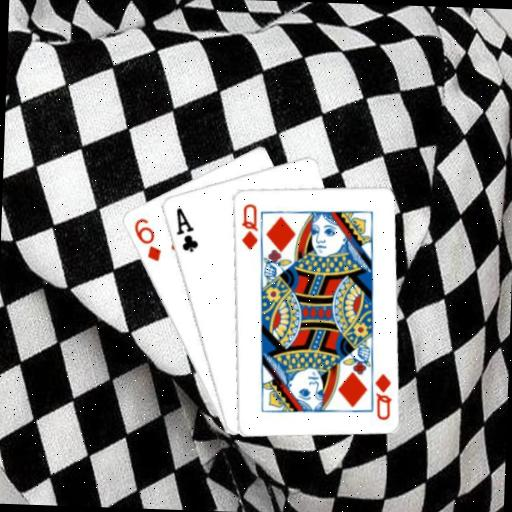6D: (129, 214, 163, 263)
AC: (171, 204, 200, 254)
QD: (237, 199, 260, 251), (370, 369, 393, 421)
